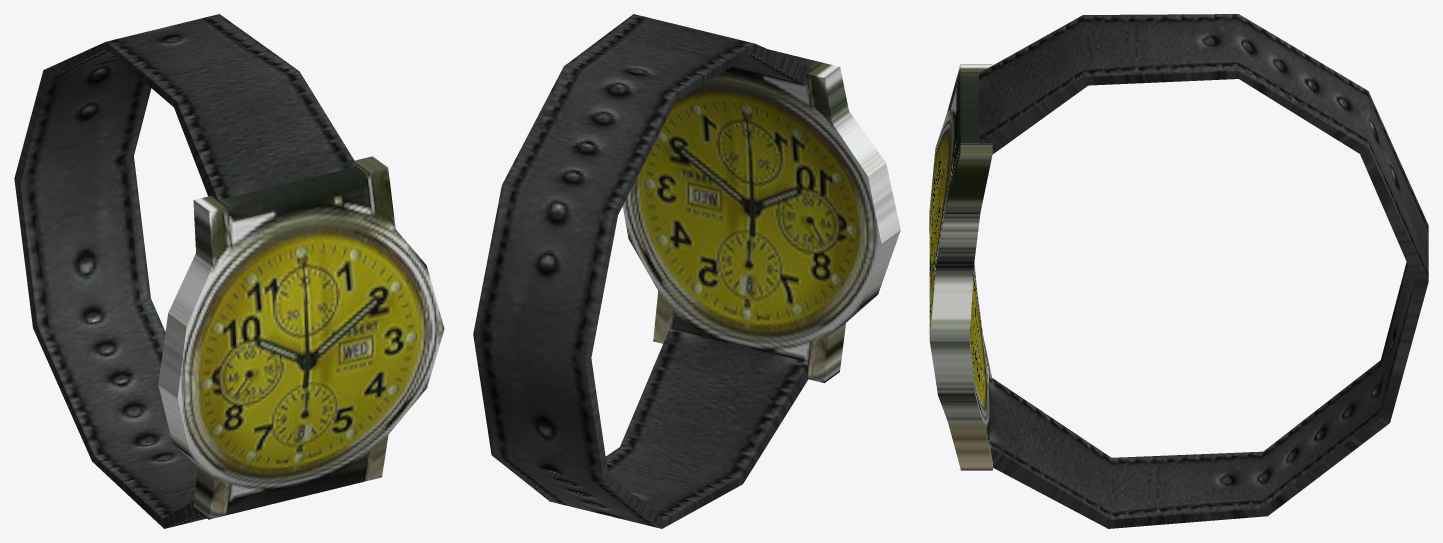
Rendered from watch2.FBX.
The picture shows the model from 3 angles, left to right: view 1: azimuth 30°, elevation 25°; view 2: azimuth 150°, elevation 25°; view 3: azimuth 270°, elevation 25°; orthographic projection. The views are drawn at different scales.
Parts seen in each view (by area): view 1: Loft32; view 2: Loft32; view 3: Loft32.
Part boxes in pixels (bbox=[...]): Loft32: bbox=[14, 14, 444, 528]; Loft32: bbox=[473, 14, 900, 528]; Loft32: bbox=[929, 14, 1428, 528].
Size of the model in its own units: 20.04 by 31.54 by 31.34.
